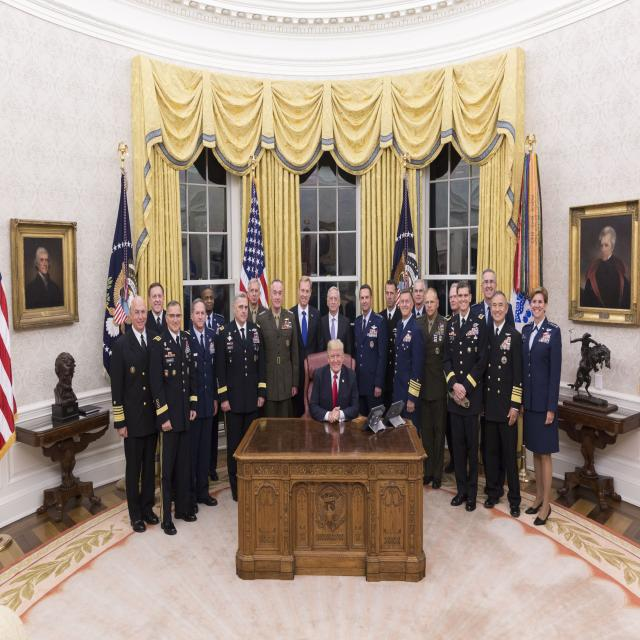body: (109, 293, 164, 534), (148, 298, 198, 538), (516, 286, 564, 526), (214, 290, 268, 503), (442, 278, 489, 512), (470, 268, 517, 498), (481, 290, 523, 518), (412, 286, 452, 492), (188, 286, 226, 482), (187, 298, 219, 514), (256, 277, 300, 419), (287, 275, 324, 417), (392, 288, 426, 438), (579, 213, 629, 311), (352, 284, 388, 418), (308, 337, 361, 426), (377, 279, 406, 417), (566, 329, 614, 409), (22, 236, 66, 310), (444, 282, 459, 474), (48, 352, 82, 422), (321, 286, 352, 358), (310, 280, 358, 325), (144, 282, 168, 336), (243, 277, 270, 324), (411, 278, 428, 320)
